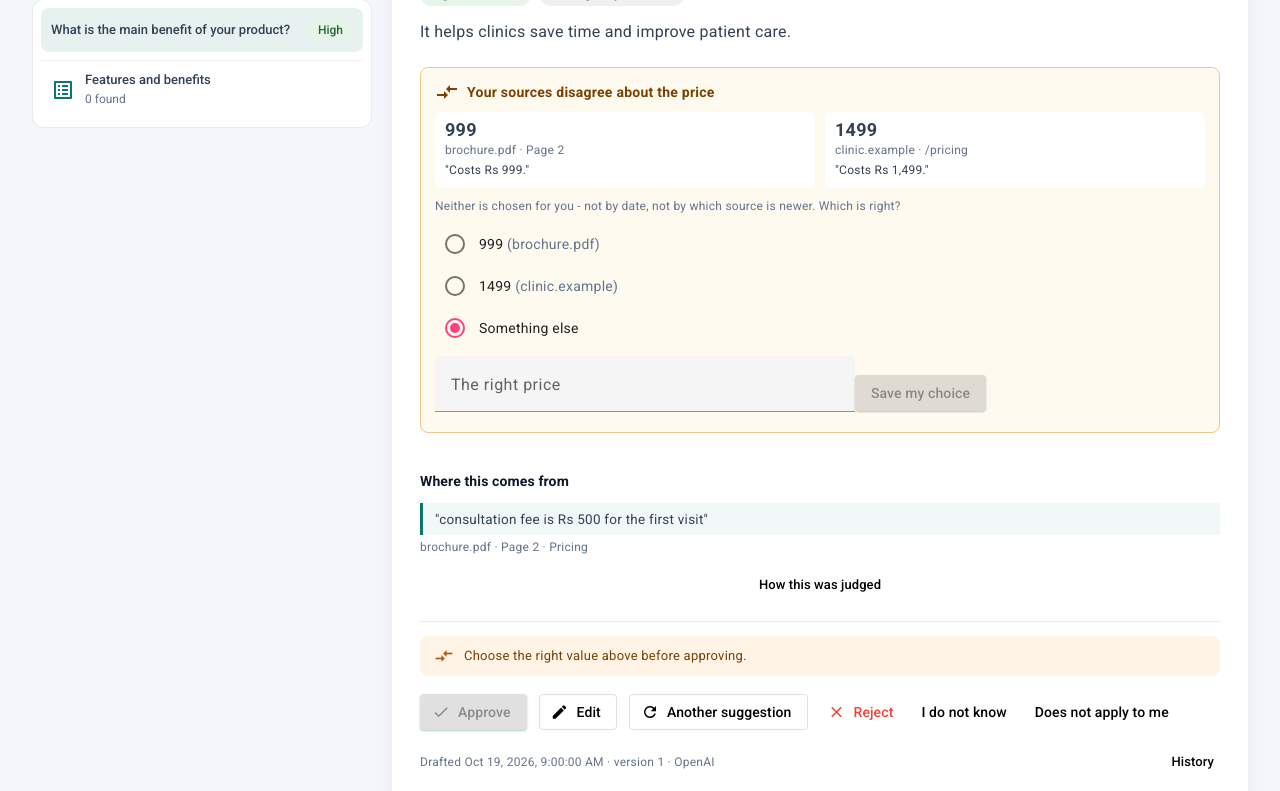
Test: ProductAnswersComponent › settles a conflict by the tenants choice - one of the values, or their own - and shows what they chose
(page scrolled)
Expected: the button with test id "resolve" is disabled, [855, 375, 986, 411]
Type "Rs 1,299 from 1 April" into the field with test id "other-value" at (645, 392), box [451, 380, 839, 404]
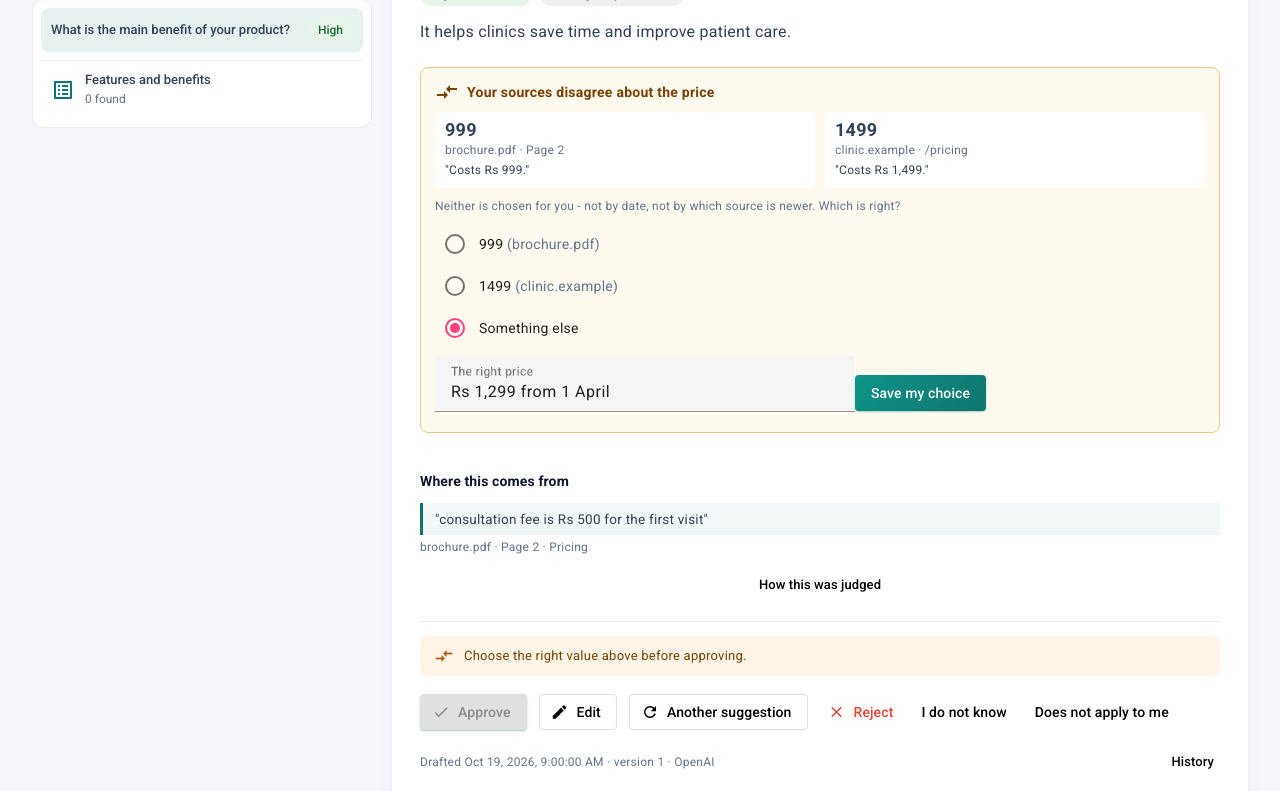
Click the button with test id "resolve" at (921, 393), box [855, 375, 986, 411]
(page scrolled)
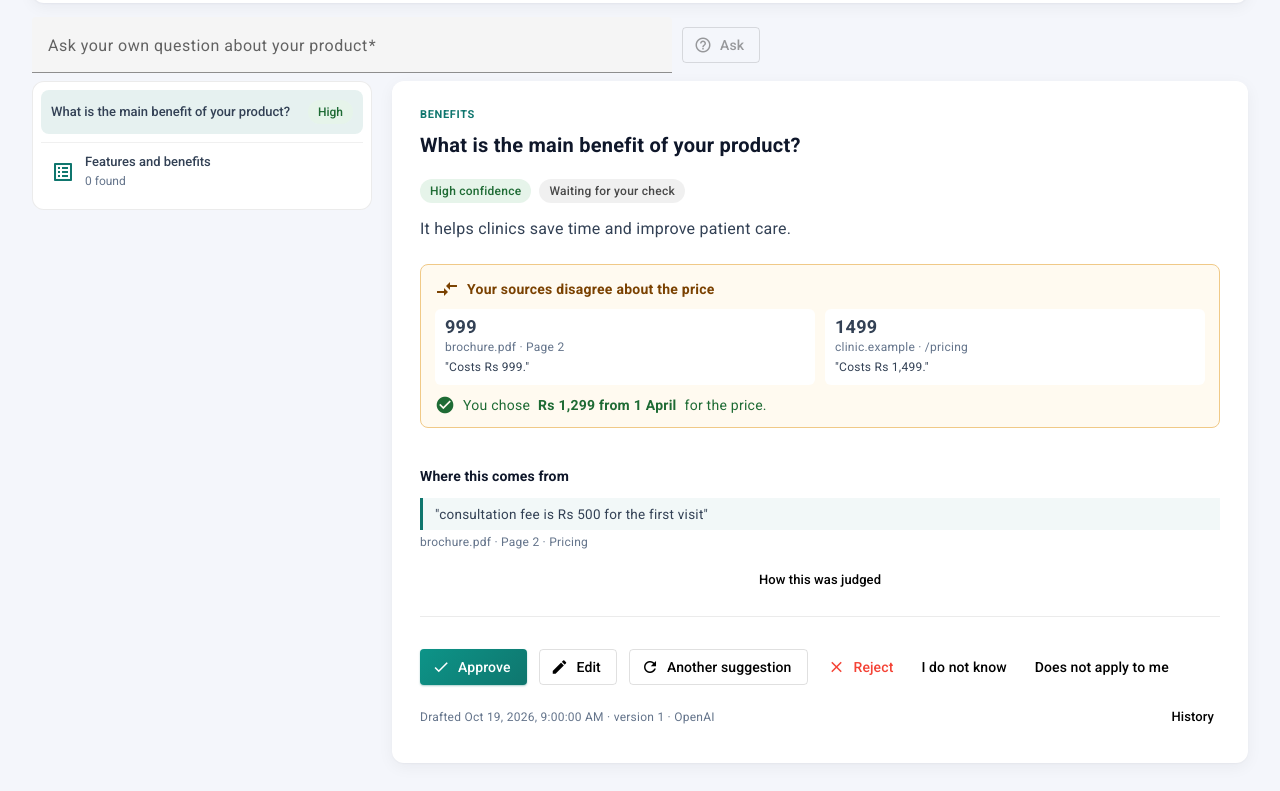
Expected: the element with test id "decided" shows "You chose Rs 1,299 from 1 April for the price", [435, 395, 767, 415]
